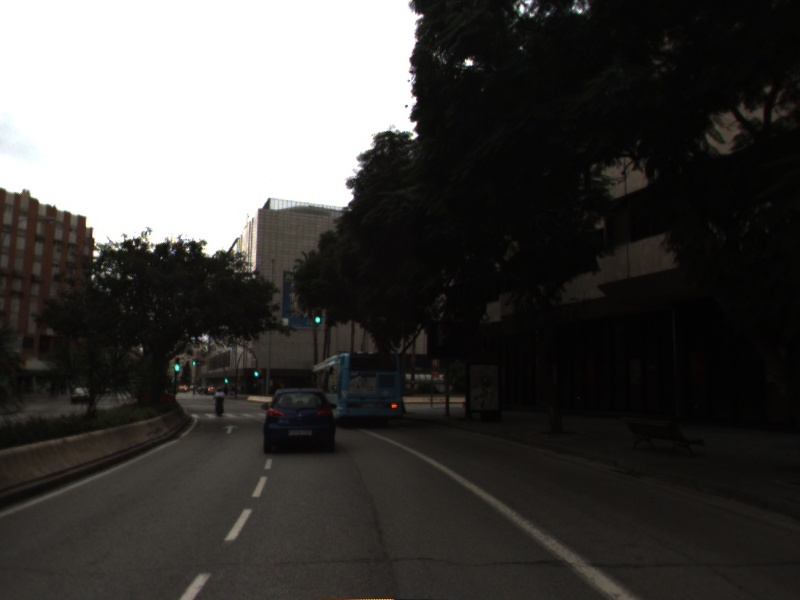STRAIGHT: (220, 422, 242, 436)
